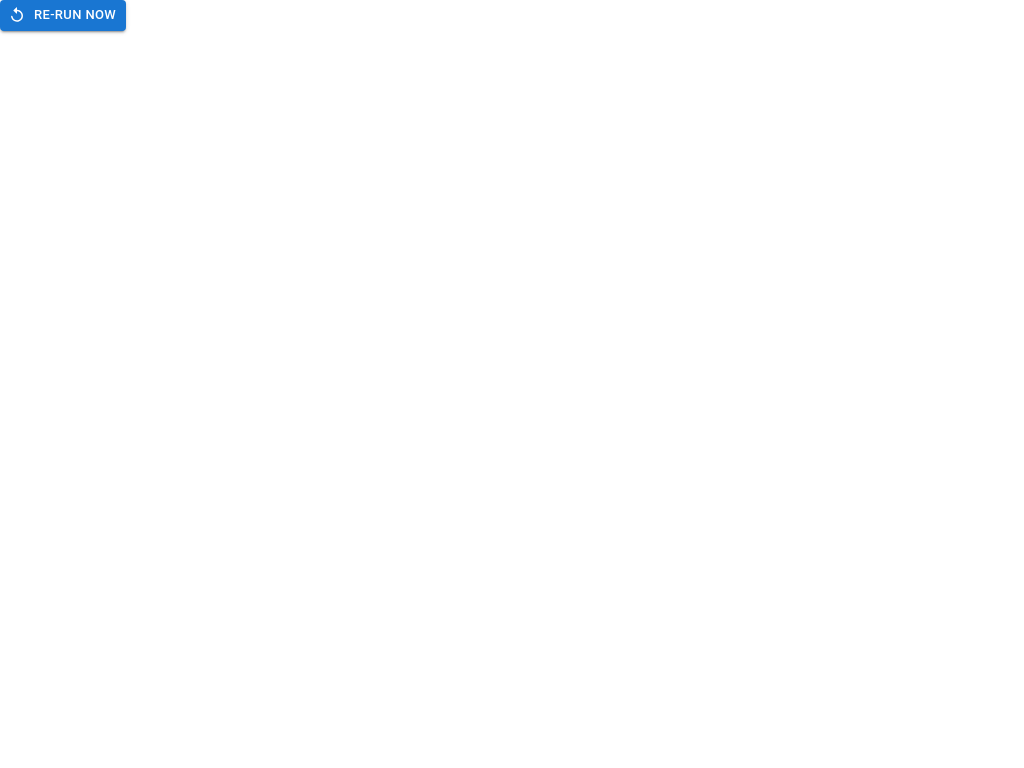
Scenario: RerunButton › shows a 409 with a link to the active run
Click the button "Re-run now": [63, 15] box [0,0,126,31]
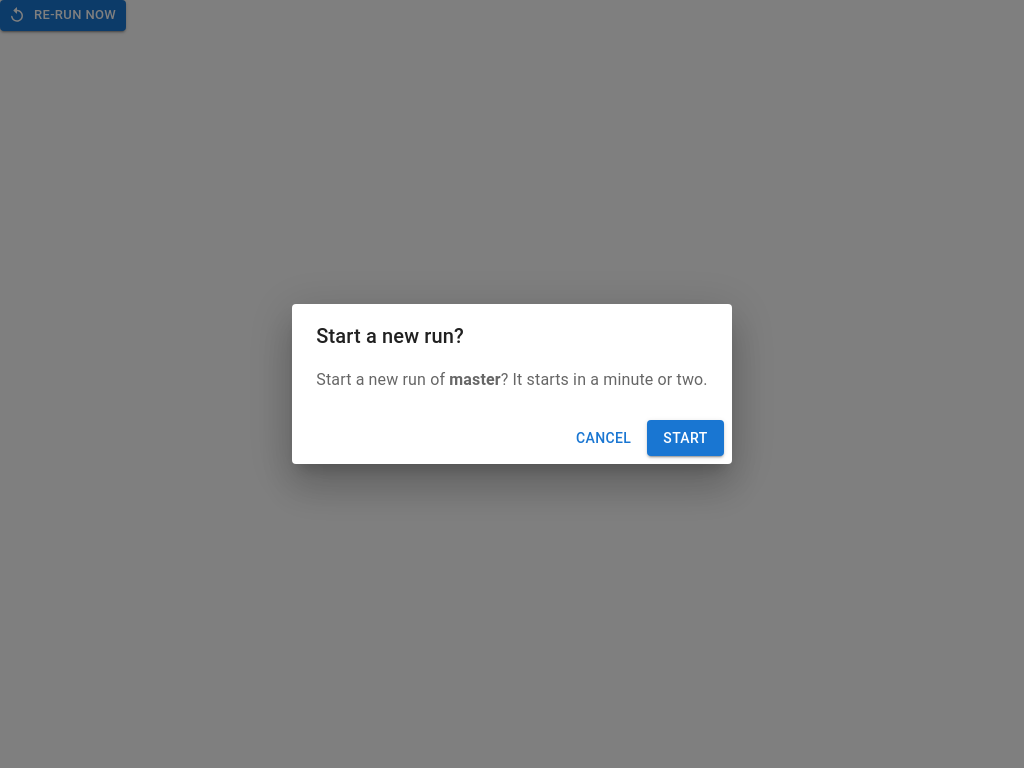
Click the button "Start": [686, 438] box [647,420,724,456]
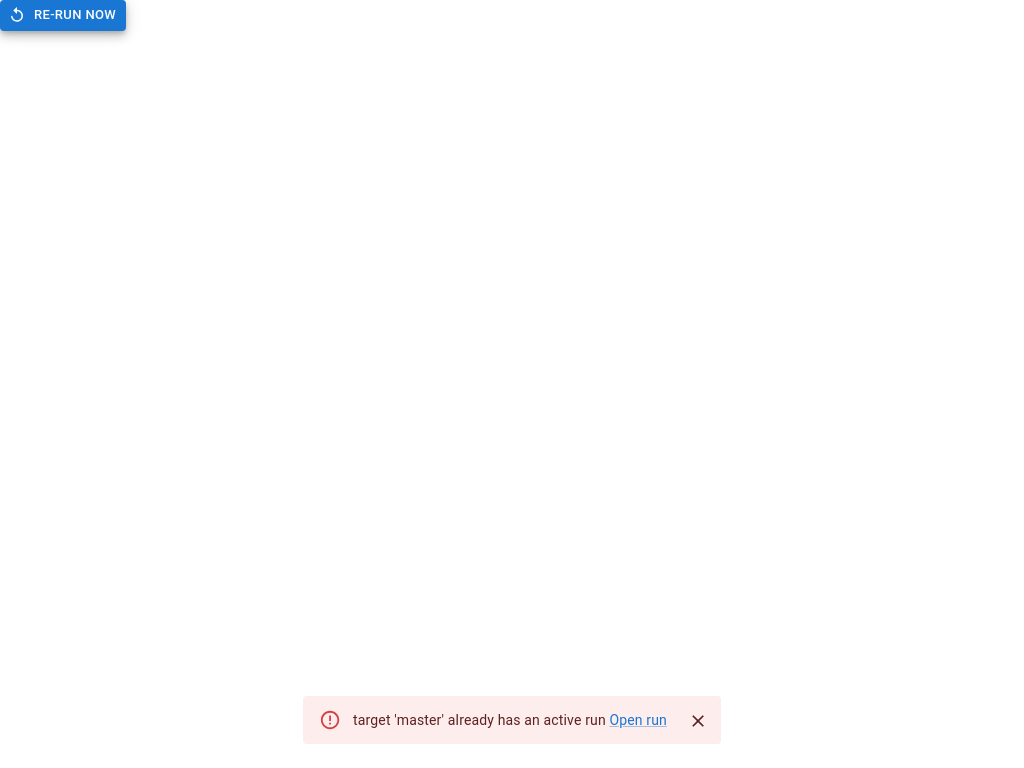
Expected: the text "target 'master' already has an active run Open run" is shown, [353,712,667,728]
